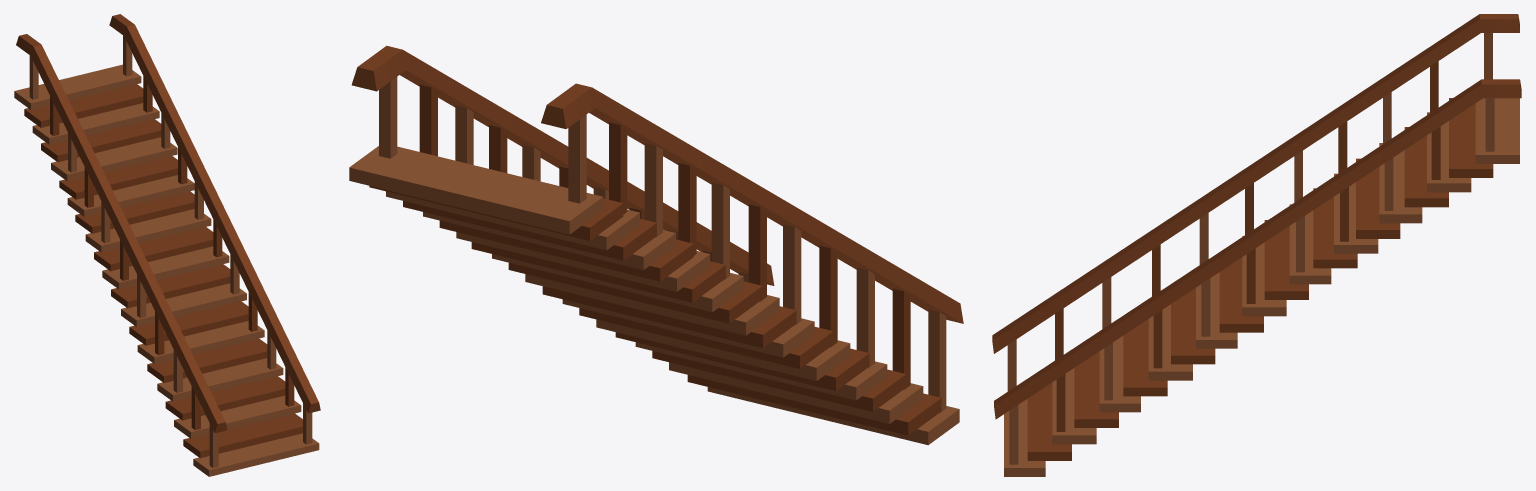
File: Stairs_2.fbx
3 renders of one model, left to right at view 1: azimuth 30°, elevation 25°; view 2: azimuth 150°, elevation 25°; view 3: azimuth 270°, elevation 25°, orthographic. The views are drawn at different scales.
Parts seen in each view (by area): view 1: polySurface1483; view 2: polySurface1483; view 3: polySurface1483.
Part boxes in pixels (box(x1,y1,x2,y2)): polySurface1483: box(14, 14, 320, 476); polySurface1483: box(349, 45, 963, 445); polySurface1483: box(992, 14, 1521, 476).
Size of the model in its own units: 3.8 by 9.81 by 11.94.
Materials: 1 (1 with a texture image).
